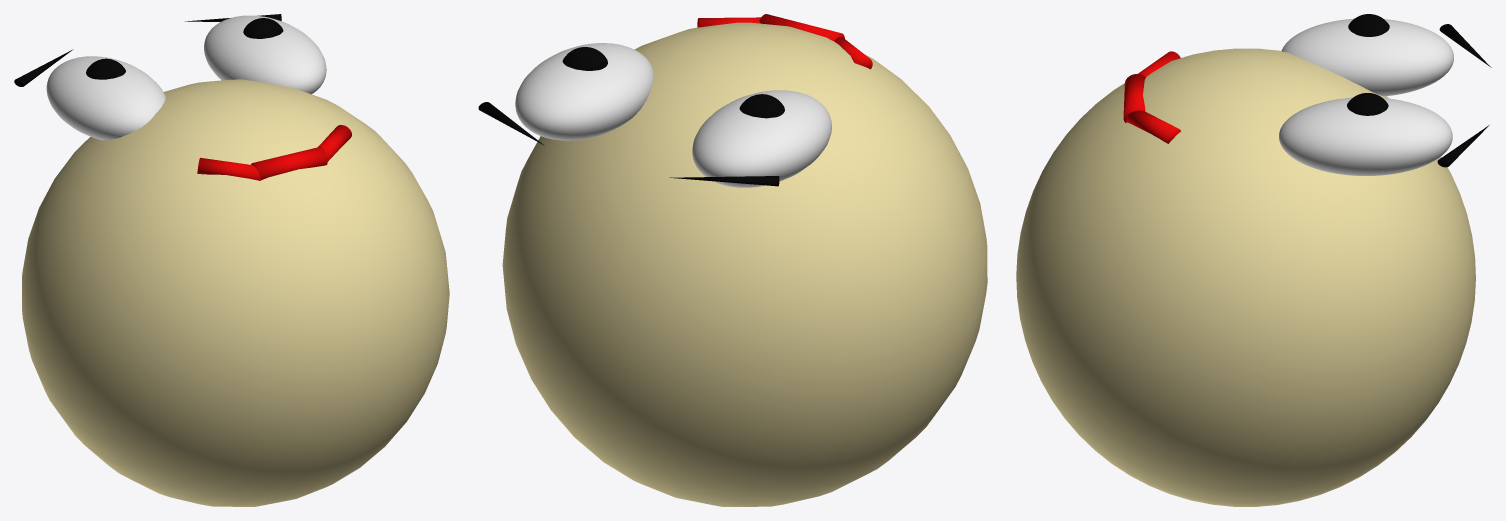
The picture shows the model from 3 angles, left to right: view 1: azimuth 30°, elevation 25°; view 2: azimuth 150°, elevation 25°; view 3: azimuth 270°, elevation 25°; orthographic projection. The views are drawn at different scales.
Visible parts, largest first — view 1: Sphere; view 2: Sphere; view 3: Sphere.
Part boxes in pixels (x1,y1,x2,y2): Sphere: [14, 14, 449, 506]; Sphere: [478, 14, 987, 506]; Sphere: [1016, 14, 1491, 506].
Bounding box in the file's own units: 0.00317 × 0.00332 × 0.00329.
